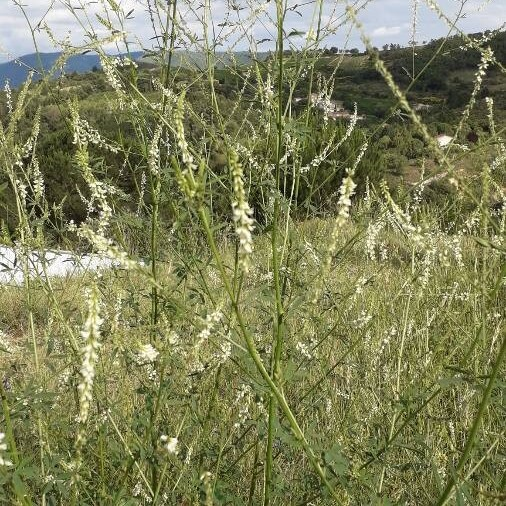obstacle: (212, 15, 326, 492)
